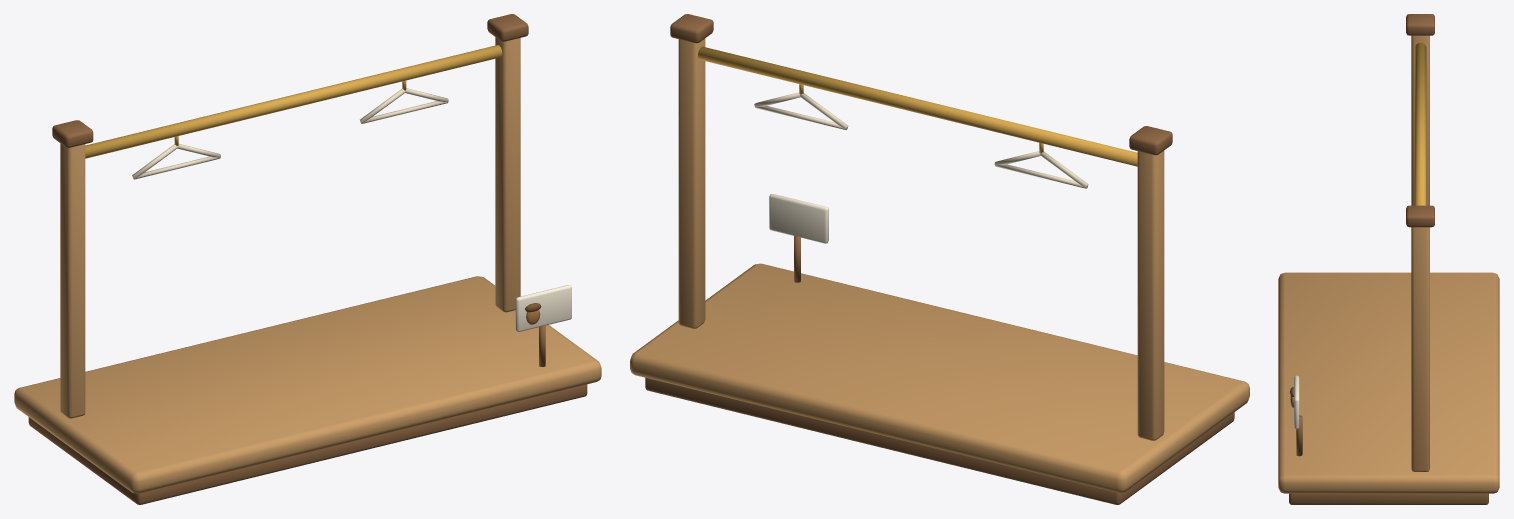
File: clothes-rack.glb
The picture shows the model from 3 angles, left to right: view 1: azimuth 30°, elevation 25°; view 2: azimuth 150°, elevation 25°; view 3: azimuth 270°, elevation 25°; orthographic projection. The views are drawn at different scales.
Parts seen in each view (by area): view 1: rack, tag; view 2: rack, tag; view 3: rack, tag.
Part boxes in pixels (x1=…): rack: x1=14, y1=14, x2=601, y2=504; tag: x1=515, y1=285, x2=571, y2=366; rack: x1=630, y1=14, x2=1249, y2=504; tag: x1=769, y1=194, x2=828, y2=282; rack: x1=1278, y1=14, x2=1499, y2=504; tag: x1=1290, y1=375, x2=1302, y2=456.
Size of the model in its own units: 1.86 by 1.23 by 0.84.
